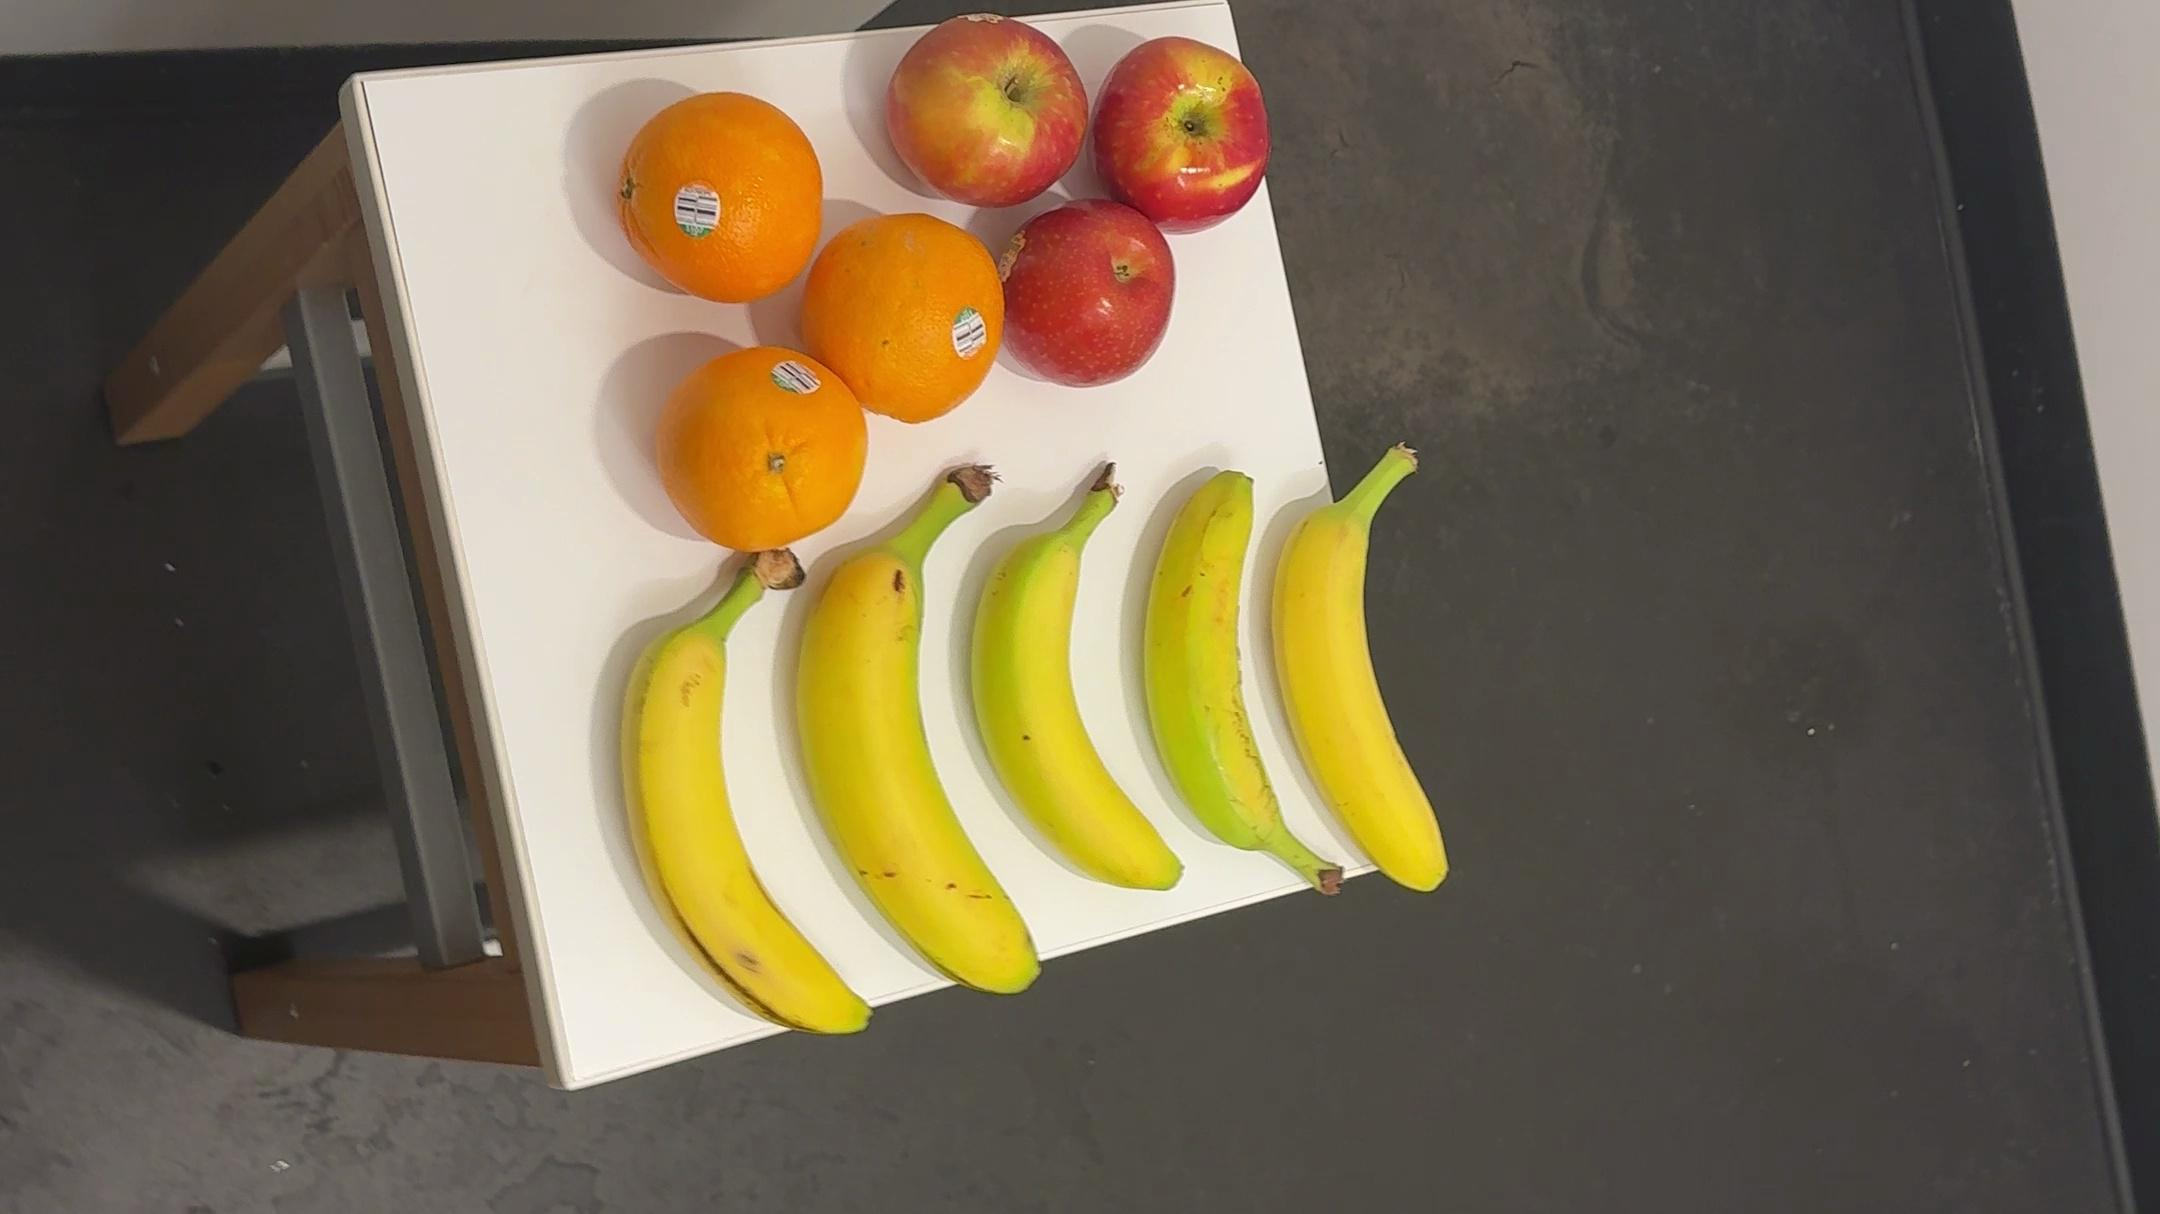apple: (883, 4, 1084, 209), (997, 194, 1191, 405), (1090, 31, 1280, 236)
banana: (813, 453, 1050, 1017), (613, 545, 874, 1054), (1141, 453, 1357, 925), (1285, 433, 1476, 919), (991, 456, 1188, 914)
orange: (657, 335, 868, 574), (622, 91, 823, 325), (807, 206, 1010, 433)
